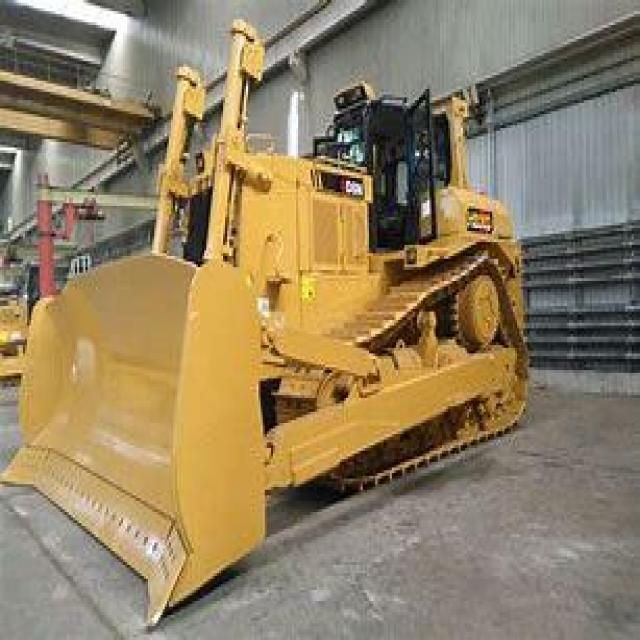Bulldozer: (15, 19, 544, 610)
